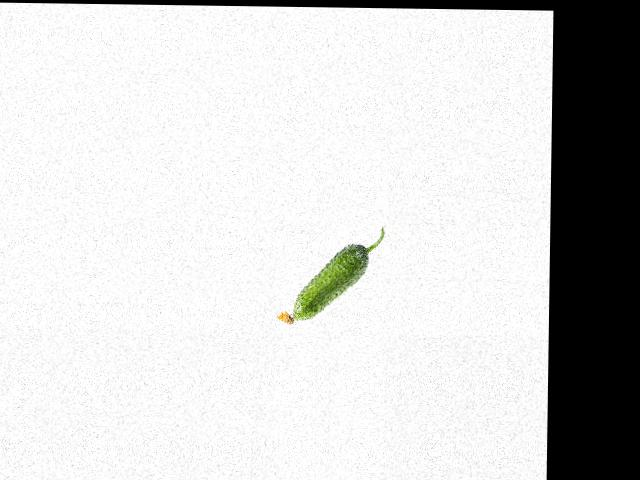cucumber: (275, 226, 384, 325)
